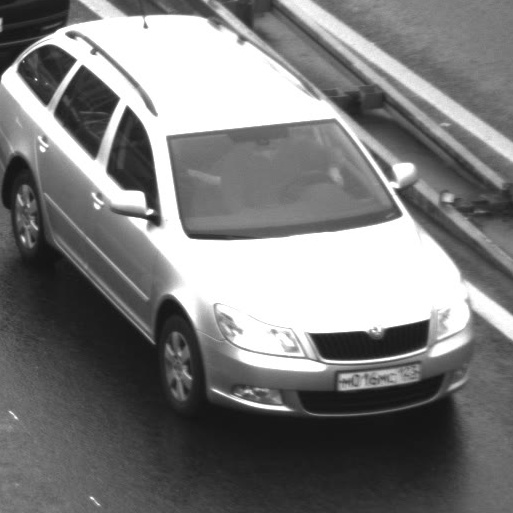plate: (327, 353, 429, 398)
